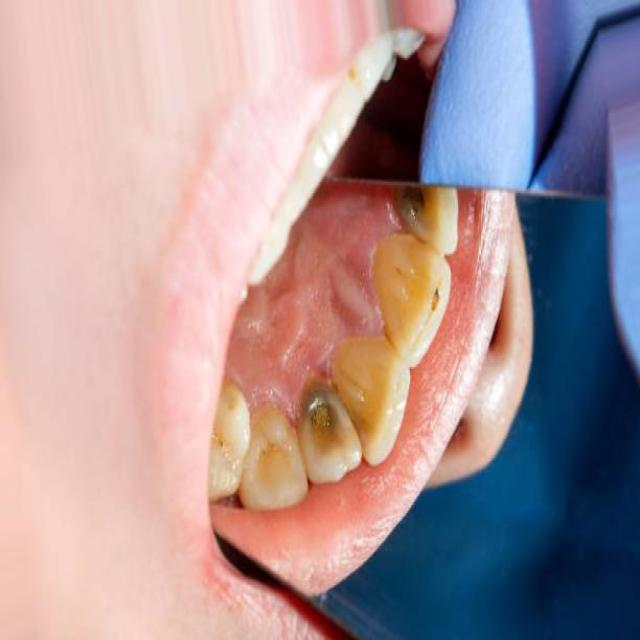caries: (395, 178, 440, 241), (298, 377, 338, 443)
